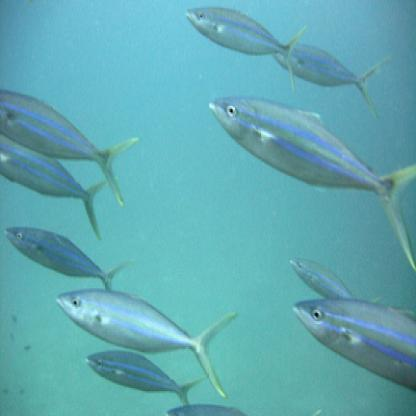Carangidae -Jacks-: (209, 85, 416, 277), (54, 280, 240, 398), (285, 292, 416, 400), (4, 218, 133, 299)
